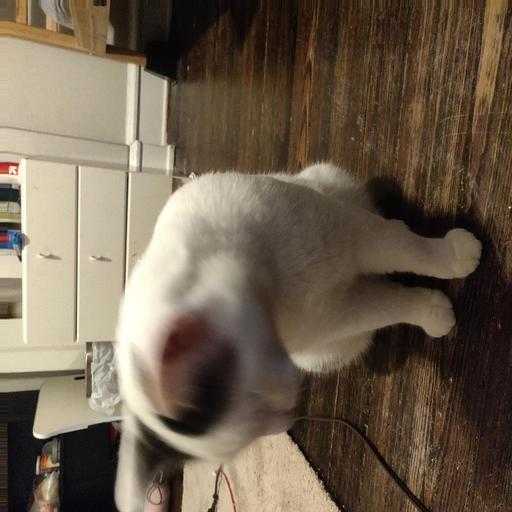cat: (101, 151, 428, 478)
